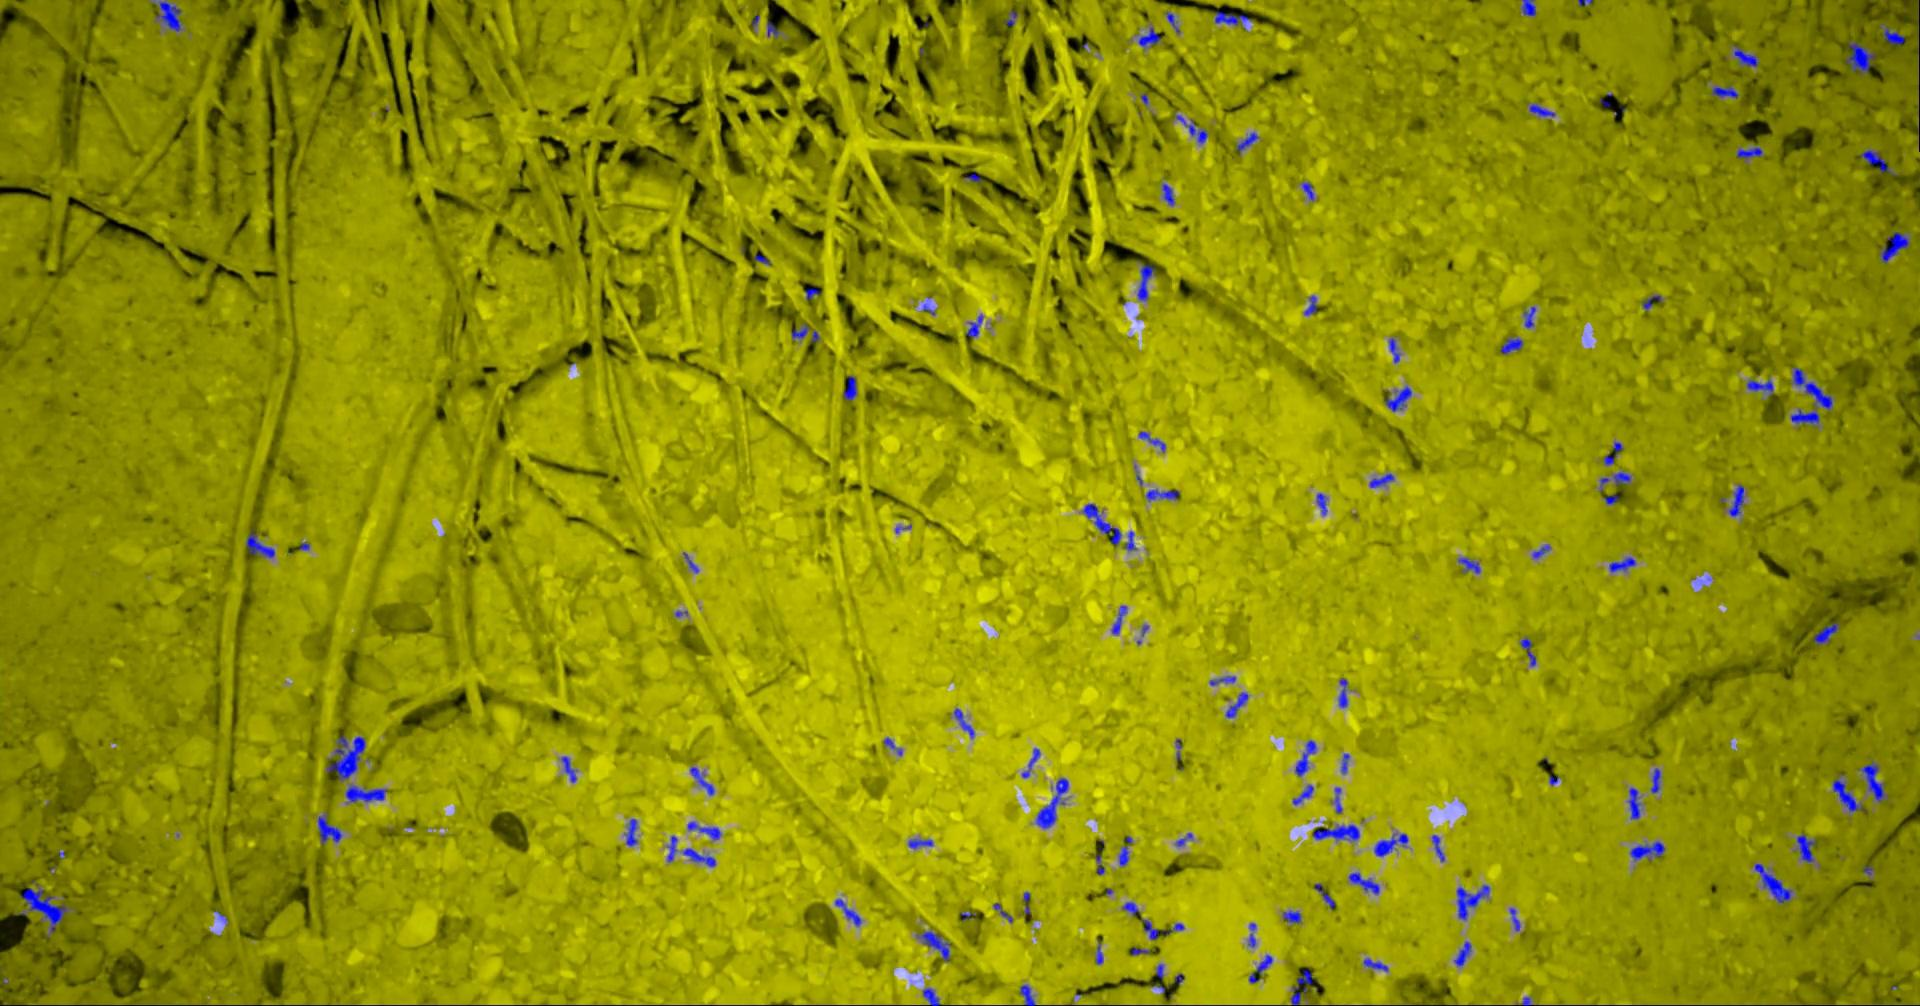ant: (20, 887, 66, 932), (1792, 367, 1832, 409), (1081, 503, 1121, 545), (326, 735, 364, 780), (1036, 777, 1068, 828), (1754, 862, 1790, 903), (1457, 884, 1490, 920), (1175, 111, 1208, 144), (1832, 779, 1867, 810), (1858, 762, 1884, 801), (916, 931, 950, 962), (1858, 149, 1896, 175), (1845, 41, 1876, 72), (1290, 969, 1316, 1005), (1879, 231, 1909, 262), (1140, 918, 1183, 939), (155, 0, 182, 30), (1373, 833, 1407, 856), (246, 530, 274, 558), (345, 784, 387, 801), (1312, 824, 1359, 840), (317, 814, 342, 843), (1295, 741, 1316, 775), (1629, 841, 1663, 861), (1384, 386, 1411, 412), (834, 898, 860, 925), (1248, 954, 1272, 982), (690, 766, 712, 795), (952, 708, 974, 738), (1137, 264, 1154, 300), (687, 821, 720, 840), (1349, 873, 1379, 893), (682, 848, 715, 866), (1812, 622, 1839, 644), (1313, 883, 1335, 908), (1138, 431, 1164, 451), (1021, 747, 1039, 777), (1796, 835, 1815, 862), (1733, 44, 1757, 66), (1225, 692, 1247, 716), (1214, 11, 1250, 25), (1790, 408, 1818, 426), (1728, 484, 1743, 516), (1138, 27, 1161, 47), (1236, 132, 1258, 152), (1603, 441, 1622, 465), (1111, 605, 1126, 634), (1520, 636, 1535, 666), (1627, 788, 1641, 819), (1291, 784, 1313, 804), (1453, 941, 1470, 965), (1608, 556, 1636, 572), (1117, 835, 1131, 865), (1746, 379, 1771, 395), (1882, 25, 1903, 44), (561, 756, 577, 782), (623, 818, 637, 846), (965, 314, 982, 337), (1500, 338, 1523, 354), (1145, 489, 1178, 500), (1457, 558, 1481, 573), (993, 903, 1012, 922), (842, 375, 856, 400), (1431, 835, 1444, 861), (1369, 473, 1393, 486), (1641, 293, 1661, 310), (1529, 103, 1554, 116), (1710, 85, 1738, 97), (922, 987, 940, 1005), (1018, 984, 1034, 1005), (1363, 958, 1387, 970), (1736, 146, 1763, 158), (665, 835, 677, 861), (1161, 183, 1175, 205), (1388, 337, 1399, 362), (1303, 295, 1317, 315), (1209, 674, 1236, 685), (1338, 677, 1347, 708), (1531, 544, 1550, 558), (1523, 306, 1535, 326), (1124, 530, 1137, 550), (1650, 767, 1660, 793), (791, 323, 808, 338), (1283, 909, 1300, 923), (908, 838, 932, 848), (1611, 471, 1630, 484), (1095, 847, 1103, 874), (1316, 492, 1326, 514), (1509, 907, 1519, 930), (1521, 0, 1535, 15), (1123, 901, 1138, 915), (766, 20, 778, 37), (1302, 182, 1313, 199), (1004, 10, 1017, 25), (1247, 922, 1255, 948), (1340, 753, 1349, 774), (804, 287, 819, 298), (1603, 493, 1618, 504), (1335, 788, 1341, 813)
